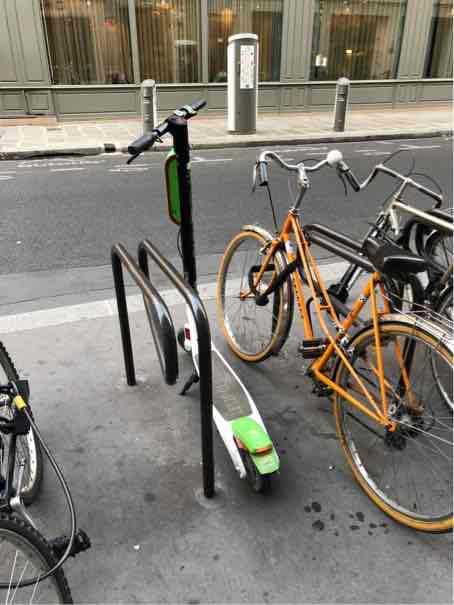scooter: (122, 81, 307, 503)
